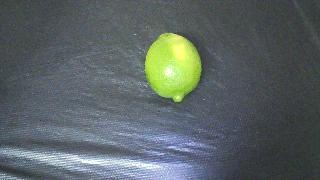LOCAL: (145, 33, 201, 102)
